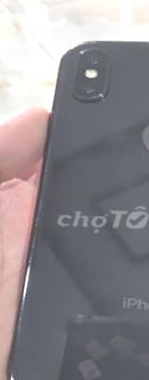scratch: (13, 158, 56, 292), (93, 42, 124, 72), (89, 83, 119, 111), (0, 366, 30, 380)
